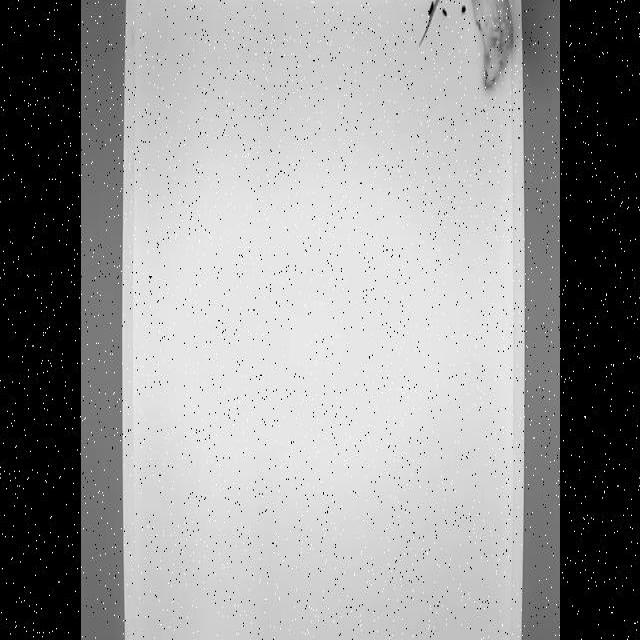rat: (415, 0, 516, 96)
